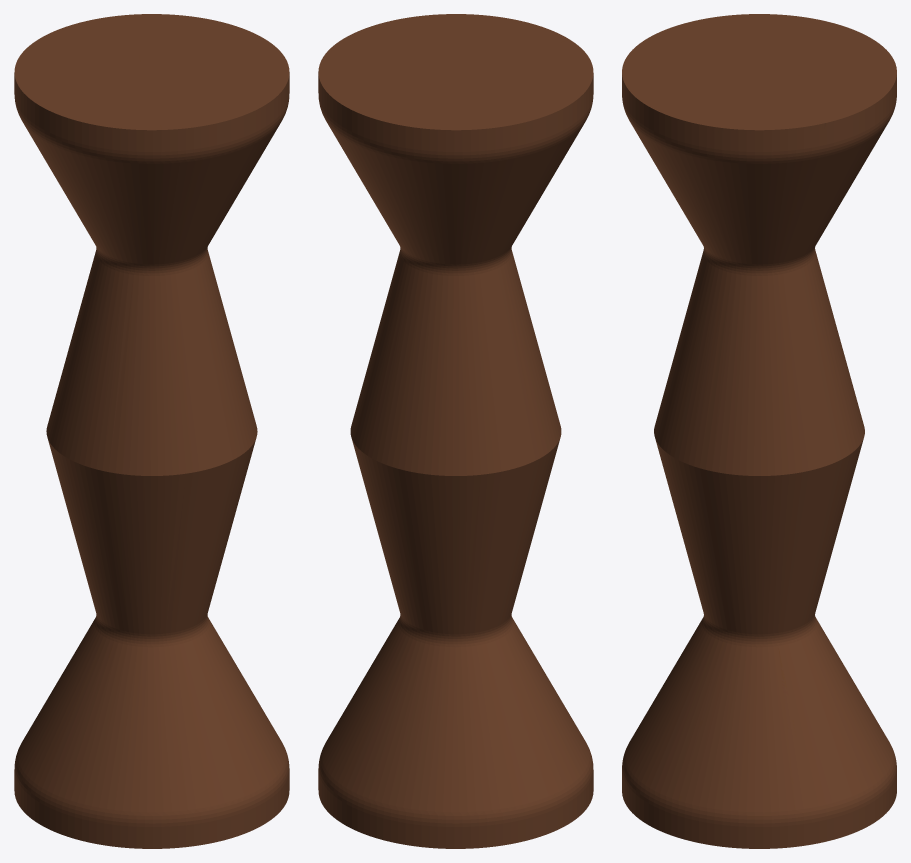
The model's file is TOTEM.fbx.
3 views of the same model, side by side, from view 1: azimuth 30°, elevation 25°; view 2: azimuth 150°, elevation 25°; view 3: azimuth 270°, elevation 25° (orthographic).
Visible parts, largest first — view 1: node_id30; view 2: node_id30; view 3: node_id30.
Part boxes in pixels (x1,y1,x2,y2): node_id30: (14, 14, 289, 848); node_id30: (318, 14, 593, 848); node_id30: (622, 14, 896, 848).
Size of the model in its own units: 0.1195 by 0.3447 by 0.1195.
Materials: 1 (1 with a texture image).
